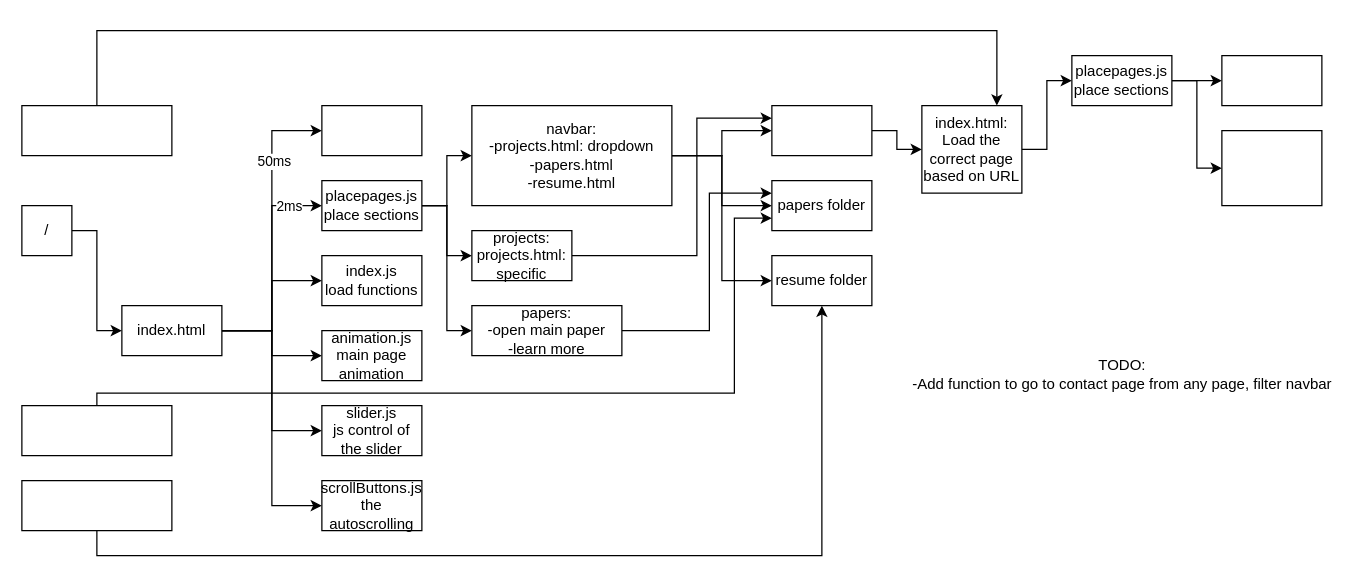
The diagram is 1363 pixels wide and 588 high, and some of its shapes have lost their labels. The shapes that lost their labels are listed below. From the top down, each one's centre as x and y in pixels, then its label:
[1271,80]: correct page based on url
[96,130]: /projects/[projcname]
[371,130]: scalar.js scale canvas
[821,130]: projects folder
[1271,167]: Selector bar for correct project
[96,430]: /papers
[96,505]: /resume
